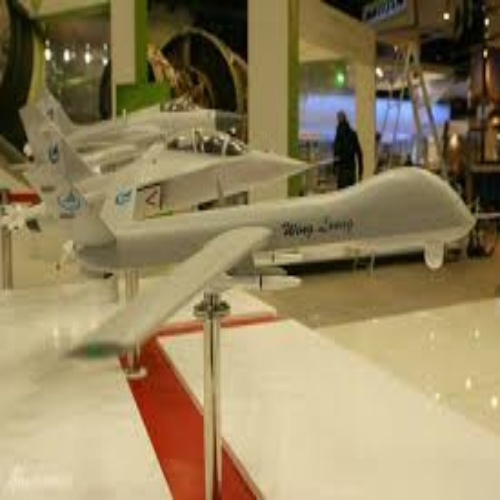uav158: (23, 158, 477, 360)
